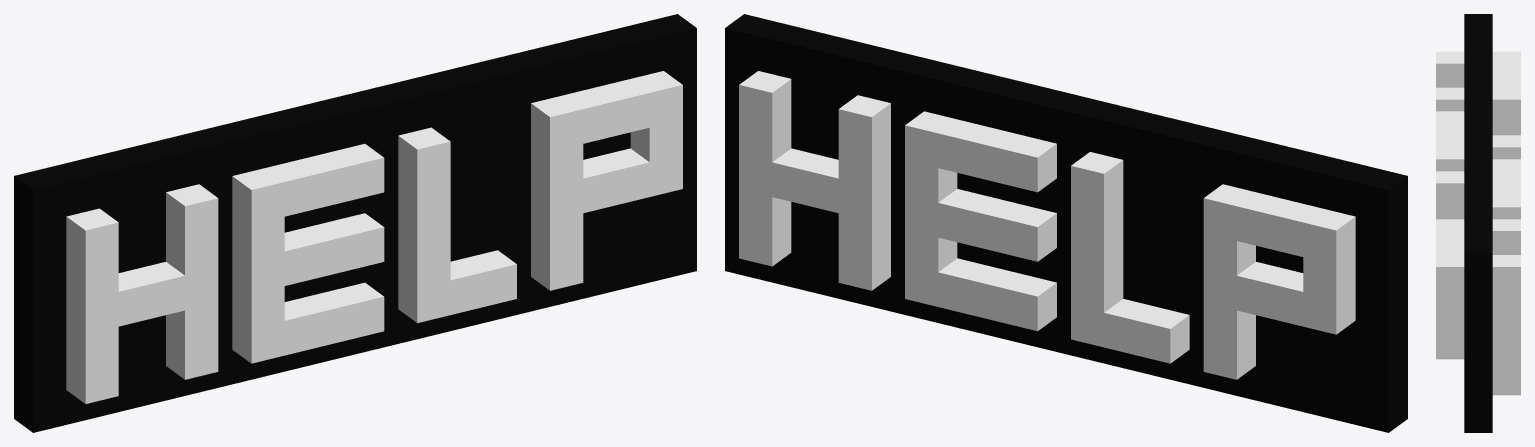
Rendered from help.obj.
The picture shows the model from 3 angles, left to right: view 1: azimuth 30°, elevation 25°; view 2: azimuth 150°, elevation 25°; view 3: azimuth 270°, elevation 25°; orthographic projection. The views are drawn at different scales.
Parts seen in each view (by area): view 1: help; view 2: help; view 3: help.
Boxes of the visible parts, x1,y1,x2,y2 form: help: [14, 14, 696, 432]; help: [725, 14, 1407, 432]; help: [1436, 14, 1520, 432].
Bounding box in the file's own units: 20 × 7 × 3.
1 material, 1 textured.
